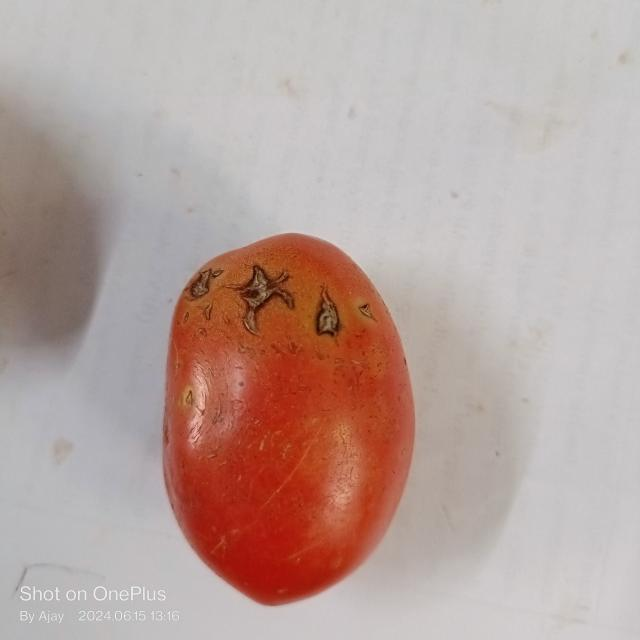Bacterial_Spot: (240, 259, 298, 316), (186, 264, 225, 303), (315, 287, 342, 335)
